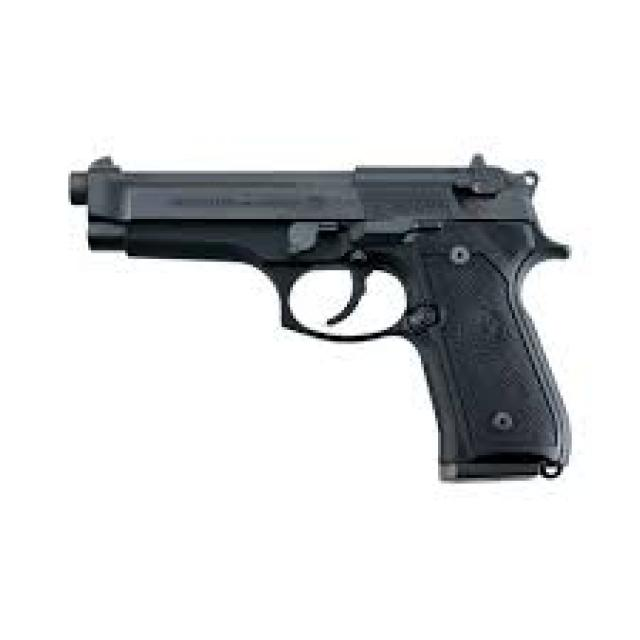pistol: (56, 142, 595, 496)
